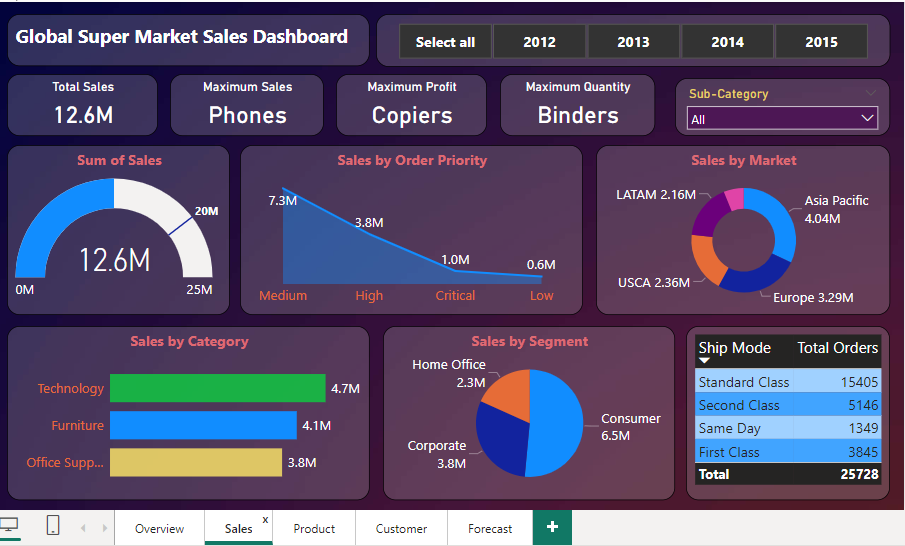

Layout of this report page (visuals, bound fields, positions):
{"tool":"powerbi","page":{"name":"Sales","canvas":[1280,720],"ordinal":1},"visuals":[{"type":"textbox","box":[10.1,16.8,514,73.9],"z":0},{"type":"slicer","fields":{"Values":["Orders.Order Date.Variation.Date Hierarchy.Year"]},"box":[532.9,17,728.5,75.1],"z":1000},{"type":"card","title":"Total Sales","fields":{"Values":["Sum(Orders.Sales)"]},"box":[9.9,102,214,87.9],"z":2000},{"type":"pieChart","title":"Sales by Segment","fields":{"Category":["Orders.Segment"],"Y":["Sum(Orders.Sales)"]},"box":[542.8,459.2,413.9,246.6],"z":3000},{"type":"tableEx","fields":{"Values":["Orders.Ship Mode","Orders.Order ID"]},"box":[972.3,459.2,289.1,246.6],"z":4000},{"type":"card","title":"Maximum Sales","fields":{"Values":["Min(Orders.Sub-Category)"]},"box":[240.9,102,218.3,87.9],"z":5000},{"type":"card","title":"Maximum Profit","fields":{"Values":["Min(Orders.Sub-Category)"]},"box":[476.2,102,214,87.9],"z":6000},{"type":"card","title":"Maximum Quantity","fields":{"Values":["Min(Orders.Sub-Category)"]},"box":[708.7,102,219.7,87.9],"z":7000},{"type":"clusteredBarChart","title":"Sales by Category","fields":{"Category":["Orders.Category"],"Y":["Sum(Orders.Sales)"]},"box":[9.9,459.2,514.5,246.6],"z":8000},{"type":"areaChart","title":"Sales by Order Priority","fields":{"Y":["Sum(Orders.Sales)"],"Category":["Orders.Order Priority"]},"box":[340.2,202.7,486.1,240.9],"z":9000},{"type":"donutChart","title":" Sales by Market","fields":{"Category":["Orders.Market"],"Y":["Sum(Orders.Sales)"]},"box":[844.7,202.7,416.7,240.9],"z":10000},{"type":"gauge","fields":{"Y":["Sum(Orders.Sales)"]},"box":[9.9,202.7,316.1,240.9],"z":11000},{"type":"slicer","fields":{"Values":["Orders.Sub-Category"]},"box":[956.7,107.7,304.7,82.2],"z":12000}]}

Visuals, with their boxes on the page's 1280x720 design canvas (x1, y1, x2, y2). These are canvas units, not pixel positions in the 905x546 screenshot, which may show the page scaled, cropped or inside an application window:
textbox: 10:17:524:91
slicer - Orders.Order Date.Variation.Date Hierarchy.Year: 533:17:1261:92
"Total Sales" card: 10:102:224:190
"Sales by Segment" pieChart: 543:459:957:706
tableEx - Orders.Ship Mode x Orders.Order ID: 972:459:1261:706
"Maximum Sales" card: 241:102:459:190
"Maximum Profit" card: 476:102:690:190
"Maximum Quantity" card: 709:102:928:190
"Sales by Category" clusteredBarChart: 10:459:524:706
"Sales by Order Priority" areaChart: 340:203:826:444
" Sales by Market" donutChart: 845:203:1261:444
gauge - Sum(Orders.Sales): 10:203:326:444
slicer - Orders.Sub-Category: 957:108:1261:190
